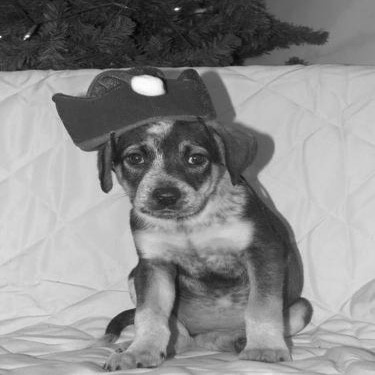dog: (40, 48, 319, 374)
